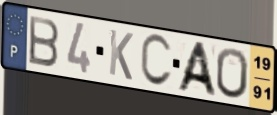4: (65, 20, 92, 77)
A: (174, 40, 219, 99)
B: (27, 13, 61, 69)
C: (139, 32, 174, 89)
K: (107, 27, 135, 83)
O: (215, 46, 250, 101)
